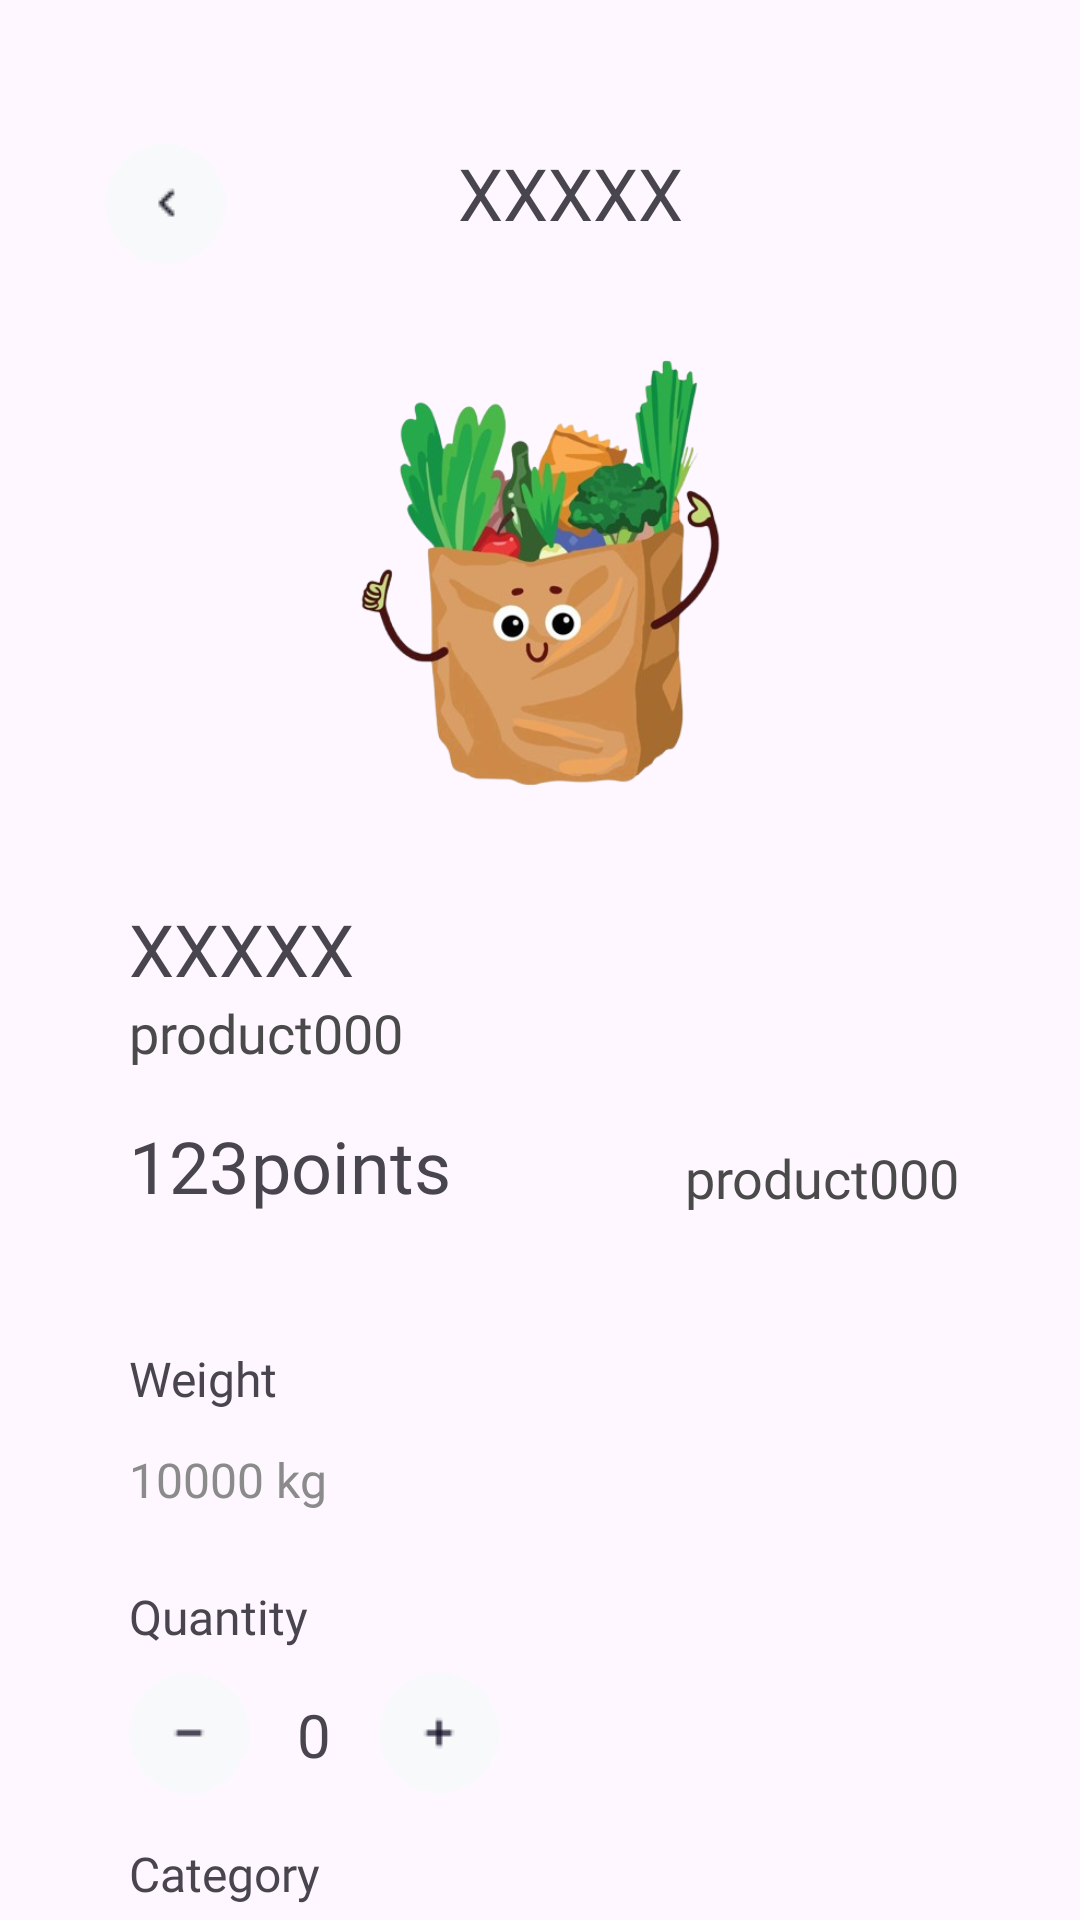

Point at icon controls on the screen. Image size 1080px×1920px, points as point (x, y).
back: point (166, 202)
minus: point (189, 1733)
plus: point (439, 1733)
